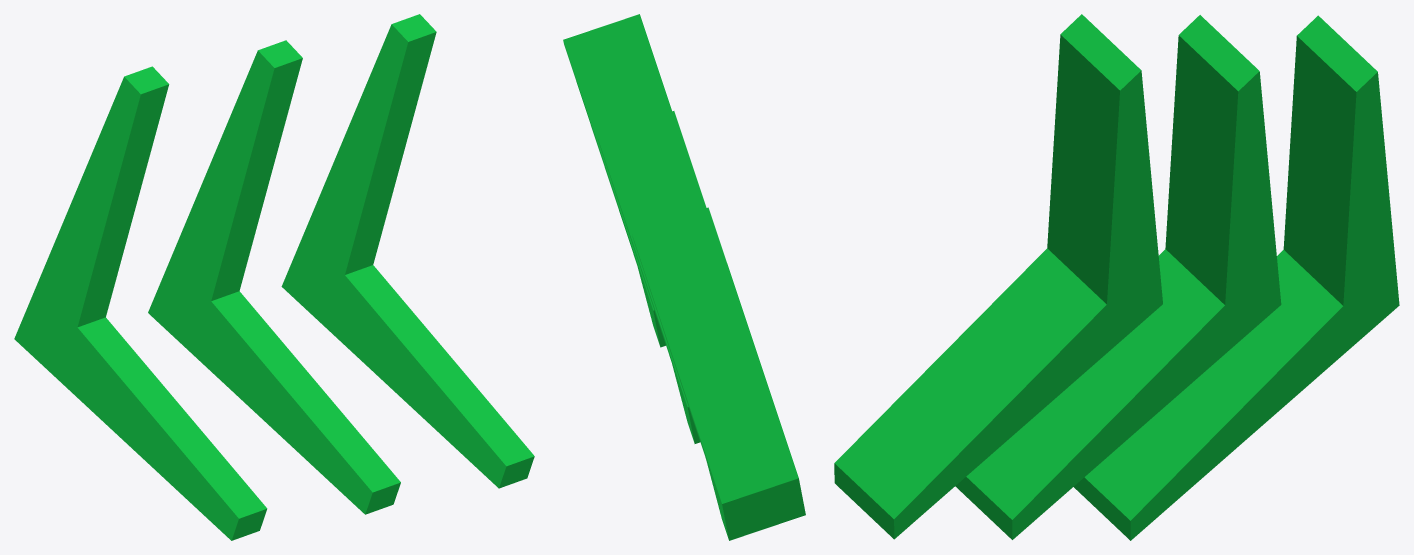
The model's file is green_arrow.glb.
3 renders of one model, left to right at view 1: azimuth 30°, elevation 25°; view 2: azimuth 150°, elevation 25°; view 3: azimuth 270°, elevation 25°, orthographic. The views are drawn at different scales.
Parts seen in each view (by area): view 1: node_id6; view 2: node_id6; view 3: node_id6.
Part boxes in pixels (left/top/right/bottom): node_id6: left=14, top=14, right=534, bottom=540; node_id6: left=563, top=14, right=805, bottom=540; node_id6: left=834, top=14, right=1399, bottom=540.
Size of the model in its own units: 0.4059 by 0.5733 by 0.496.
Materials: 1 (1 with a texture image).
